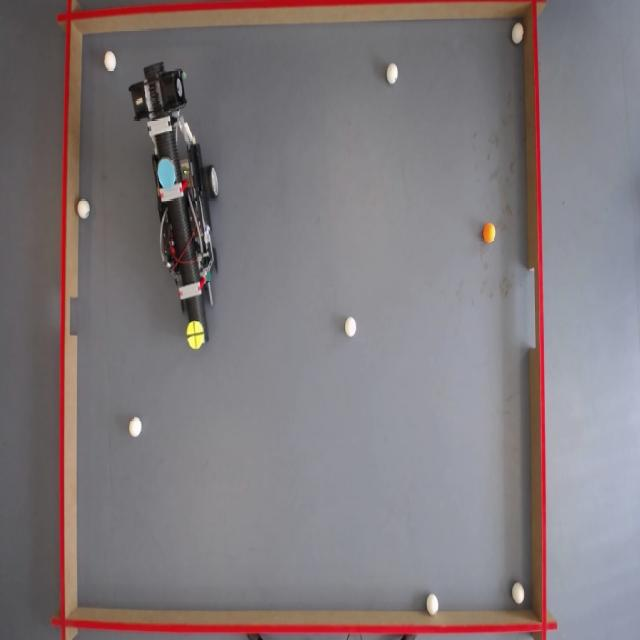orange: (484, 223, 498, 243)
robot: (134, 63, 222, 348)
robot-front: (186, 320, 203, 349)
robot-rear: (158, 156, 178, 188)
white: (513, 584, 527, 606), (512, 24, 526, 46), (130, 417, 144, 439), (426, 593, 440, 615), (345, 316, 358, 338), (77, 199, 90, 220), (386, 64, 399, 85), (104, 52, 117, 73)
